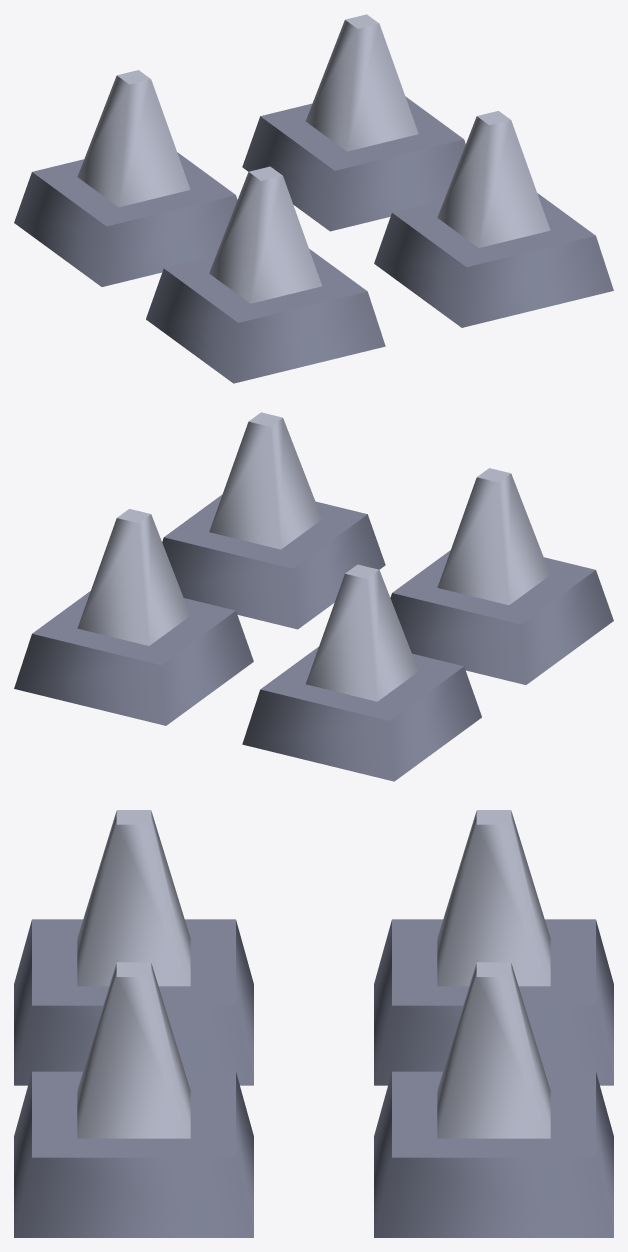
Rendered from trap.glb.
The picture shows the model from 3 angles, top to bottom: view 1: azimuth 30°, elevation 25°; view 2: azimuth 150°, elevation 25°; view 3: azimuth 270°, elevation 25°; orthographic projection. The views are drawn at different scales.
Parts seen in each view (by area): view 1: trap; view 2: trap; view 3: trap.
Boxes of the visible parts, left/top/right/bottom form: trap: left=14, top=14, right=613, bottom=383; trap: left=14, top=412, right=613, bottom=781; trap: left=14, top=810, right=613, bottom=1237.
Size of the model in its own units: 0.6375 by 0.255 by 0.6375.
